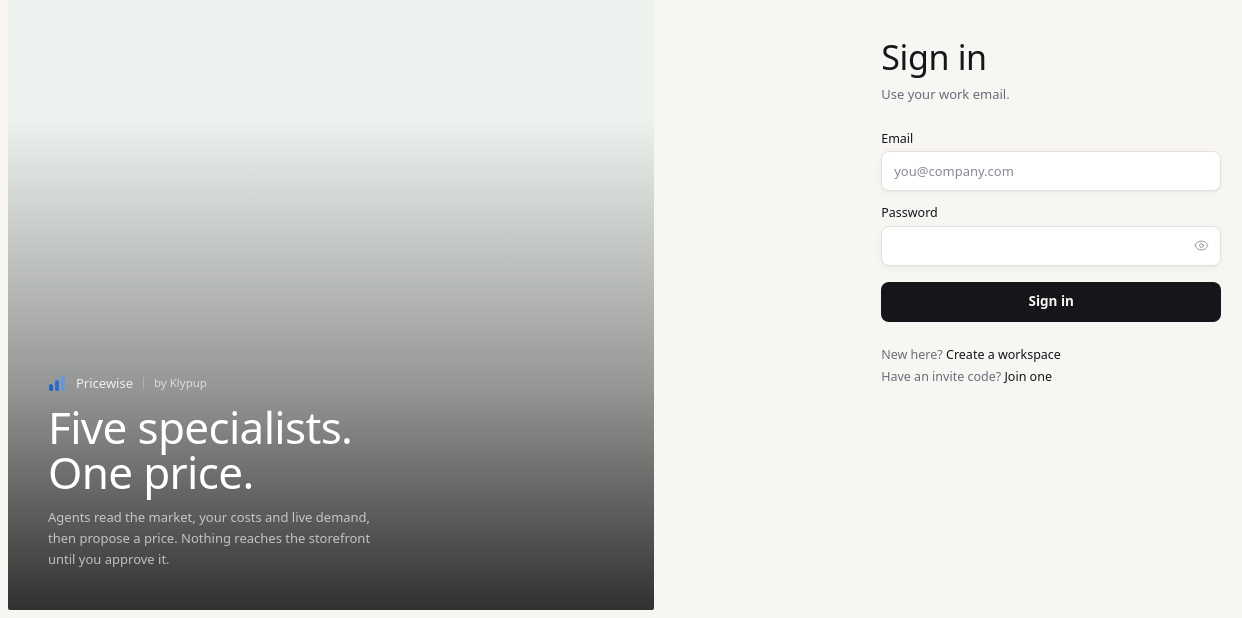
Test: sign in › a rejected sign-in shows the server's message without naming a field
Type "admin@suvidha.test" into the field labelled "Email" at (1051, 171), box [881,151,1221,191]
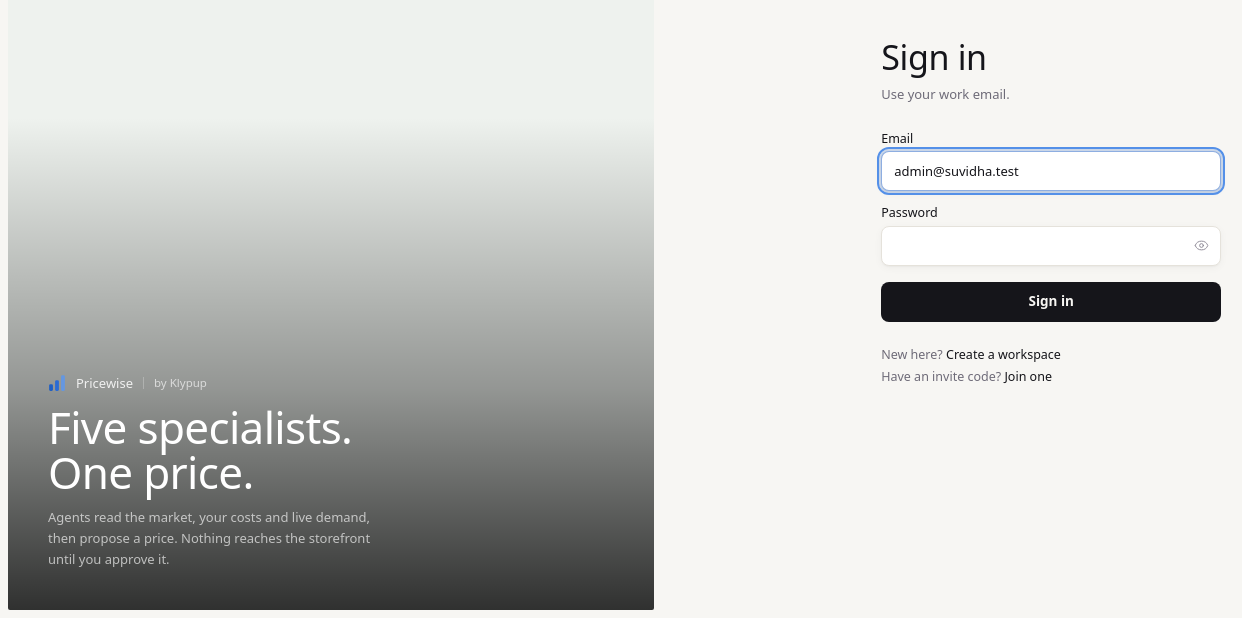
Type "wrong-password" into the password field labelled "Password" at (1051, 246), box [881,226,1221,266]
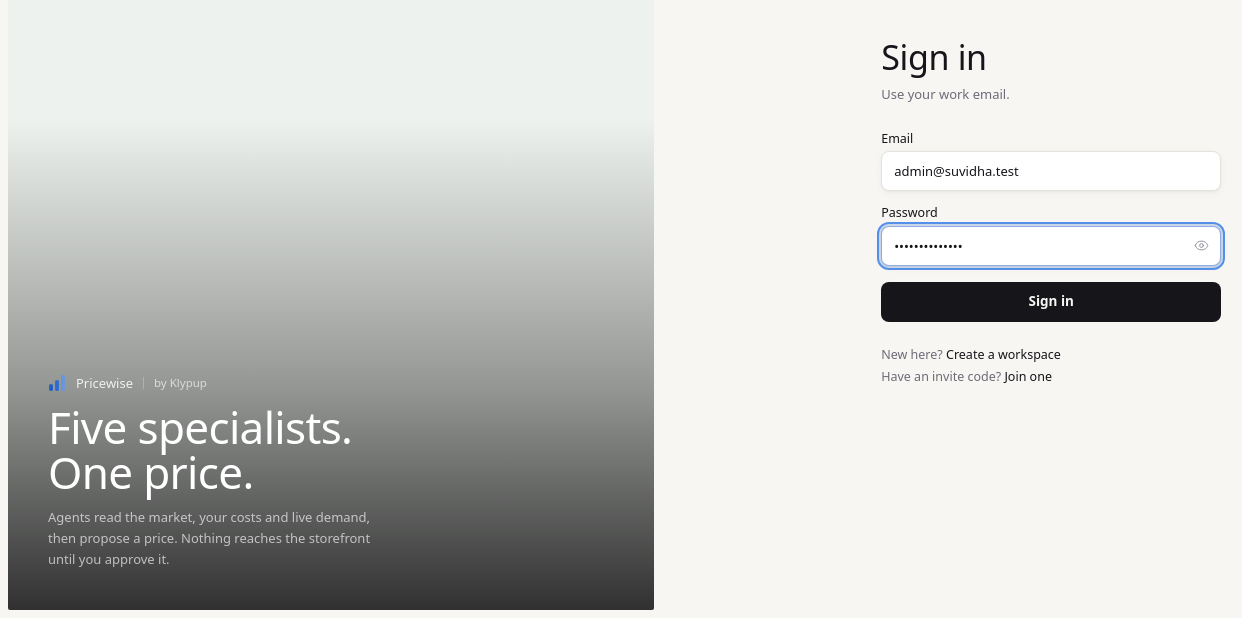
Click the button "Sign in" at (1051, 302), box [881,282,1221,322]
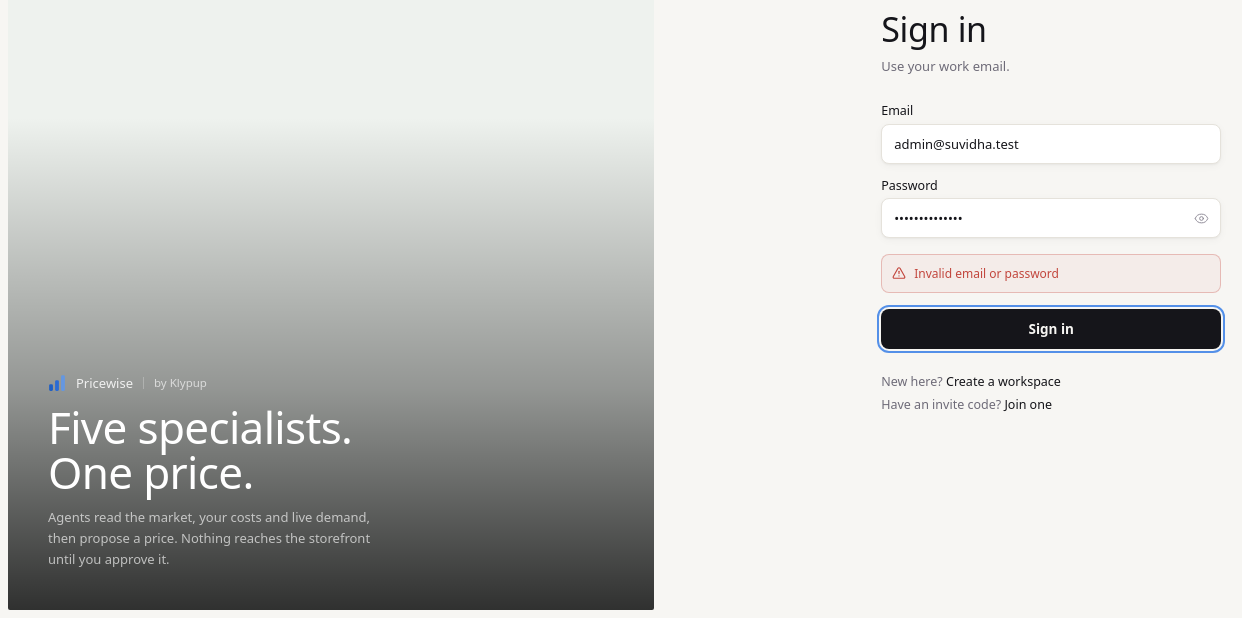
Now the message "Invalid email or password" is shown, box [881,254,1221,294]
